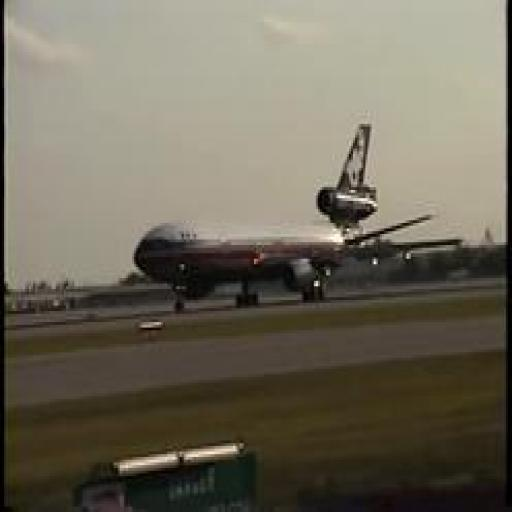aircraft: (134, 124, 465, 314)
